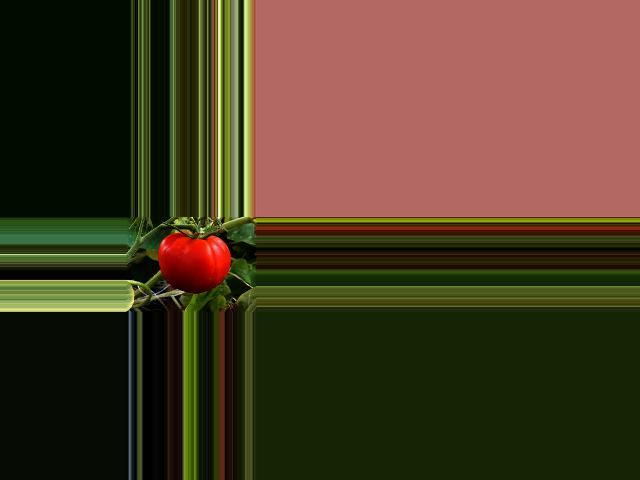tomato: (157, 233, 230, 293)
